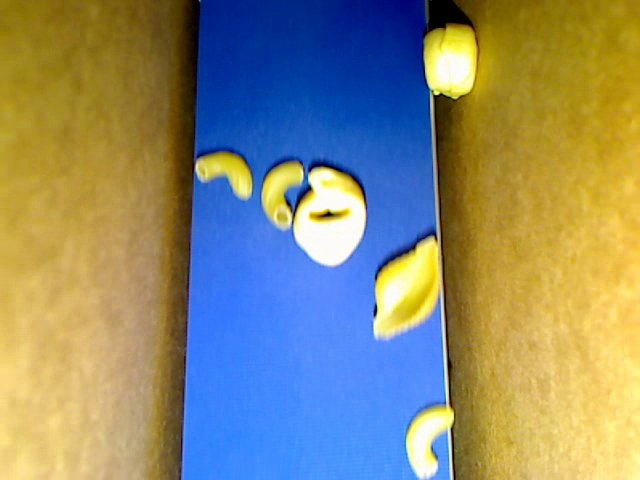elbow: (402, 405, 453, 478), (260, 159, 304, 232), (195, 152, 253, 200)
shell: (372, 235, 440, 341)
tortellini: (293, 167, 364, 268)
